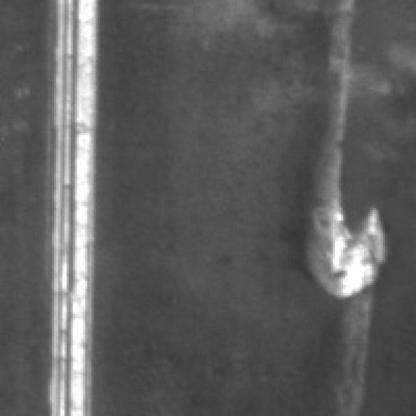scratches: (35, 0, 102, 414), (318, 0, 370, 364), (293, 176, 385, 296)
